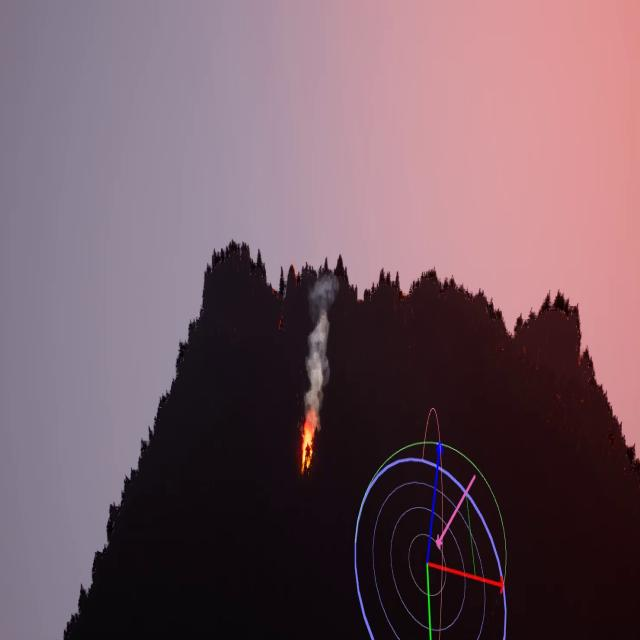fire: (302, 412, 317, 472)
smoke: (306, 265, 335, 409)
